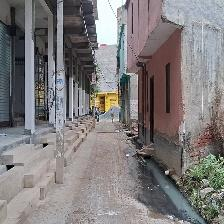Drain: (116, 120, 219, 223)
Human: (106, 105, 116, 130), (96, 104, 100, 124)
Obstacle: (55, 0, 64, 186), (93, 52, 96, 128)
Road: (24, 118, 171, 223)
